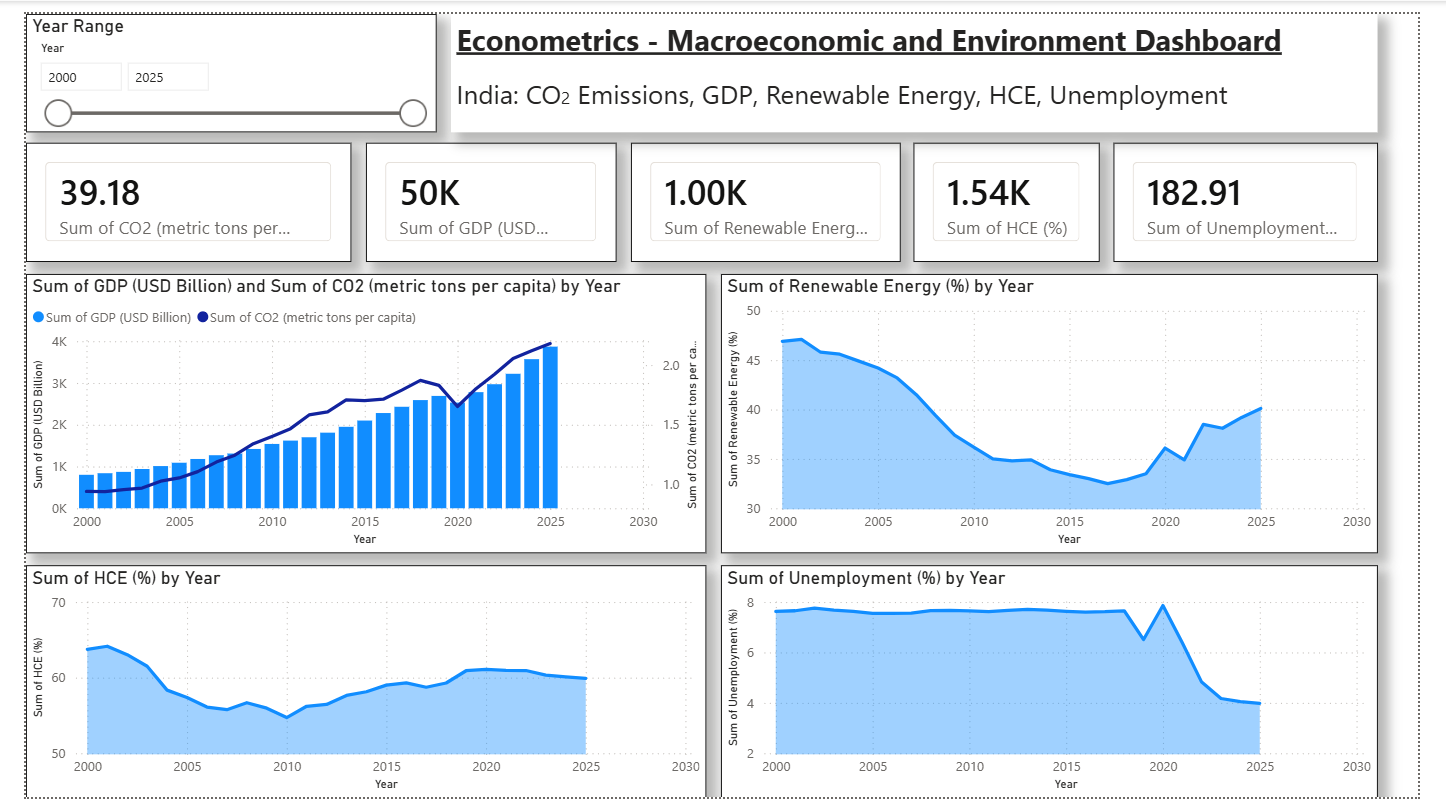

Layout of this report page (visuals, bound fields, positions):
{"tool":"powerbi","page":{"name":"OVERVIEW","canvas":[1280,720],"ordinal":0},"visuals":[{"type":"slicer","title":"Year Range","fields":{"Values":["Raw Data.Year"]},"box":[0,0,377.4,108.4],"z":0},{"type":"cardVisual","fields":{"Data":["Sum(Raw Data.CO2 (metric tons per capita))"]},"box":[0,118,299.1,109.8],"z":1000},{"type":"cardVisual","fields":{"Data":["Sum(Raw Data.GDP (USD Billion))"]},"box":[312.9,118,230.5,109.8],"z":2000},{"type":"cardVisual","fields":{"Data":["Sum(Raw Data.Renewable Energy (%))"]},"box":[555.7,118,248.4,109.8],"z":3000},{"type":"cardVisual","fields":{"Data":["Sum(Raw Data.HCE (%))"]},"box":[816.5,118,171.5,109.8],"z":4000},{"type":"cardVisual","fields":{"Data":["Sum(Raw Data.Unemployment (%))"]},"box":[1000.3,118,242.9,109.8],"z":5000},{"type":"lineClusteredColumnComboChart","fields":{"Category":["Raw Data.Year"],"Y":["Sum(Raw Data.GDP (USD Billion))"],"Y2":["Sum(Raw Data.CO2 (metric tons per capita))"]},"box":[0,238.8,625.7,256.6],"z":6000},{"type":"areaChart","fields":{"Category":["Raw Data.Year"],"Y":["Sum(Raw Data.Renewable Energy (%))"]},"box":[639.5,238.8,603.8,256.6],"z":7000},{"type":"areaChart","fields":{"Category":["Raw Data.Year"],"Y":["Sum(Raw Data.HCE (%))"]},"box":[0,506.3,625.7,214.1],"z":8000},{"type":"areaChart","fields":{"Category":["Raw Data.Year"],"Y":["Sum(Raw Data.Unemployment (%))"]},"box":[639.5,506.3,603.8,214.1],"z":9000},{"type":"textbox","box":[391.1,0,852.1,108.4],"z":10000}]}

Visuals, with their boxes in screenshot pixels (x1, y1, x2, y2), scaled from the page's 1280x720 canvas onto the 1446x807 screenshot:
"Year Range" slicer: {"left": 0, "top": 0, "right": 426, "bottom": 121}
cardVisual - Sum(Raw Data.CO2 (metric tons per capita)): {"left": 0, "top": 132, "right": 338, "bottom": 255}
cardVisual - Sum(Raw Data.GDP (USD Billion)): {"left": 353, "top": 132, "right": 614, "bottom": 255}
cardVisual - Sum(Raw Data.Renewable Energy (%)): {"left": 628, "top": 132, "right": 908, "bottom": 255}
cardVisual - Sum(Raw Data.HCE (%)): {"left": 922, "top": 132, "right": 1116, "bottom": 255}
cardVisual - Sum(Raw Data.Unemployment (%)): {"left": 1130, "top": 132, "right": 1404, "bottom": 255}
lineClusteredColumnComboChart - Raw Data.Year x Sum(Raw Data.GDP (USD Billion)): {"left": 0, "top": 268, "right": 707, "bottom": 555}
areaChart - Raw Data.Year x Sum(Raw Data.Renewable Energy (%)): {"left": 722, "top": 268, "right": 1405, "bottom": 555}
areaChart - Raw Data.Year x Sum(Raw Data.HCE (%)): {"left": 0, "top": 567, "right": 707, "bottom": 806}
areaChart - Raw Data.Year x Sum(Raw Data.Unemployment (%)): {"left": 722, "top": 567, "right": 1405, "bottom": 806}
textbox: {"left": 442, "top": 0, "right": 1404, "bottom": 121}
